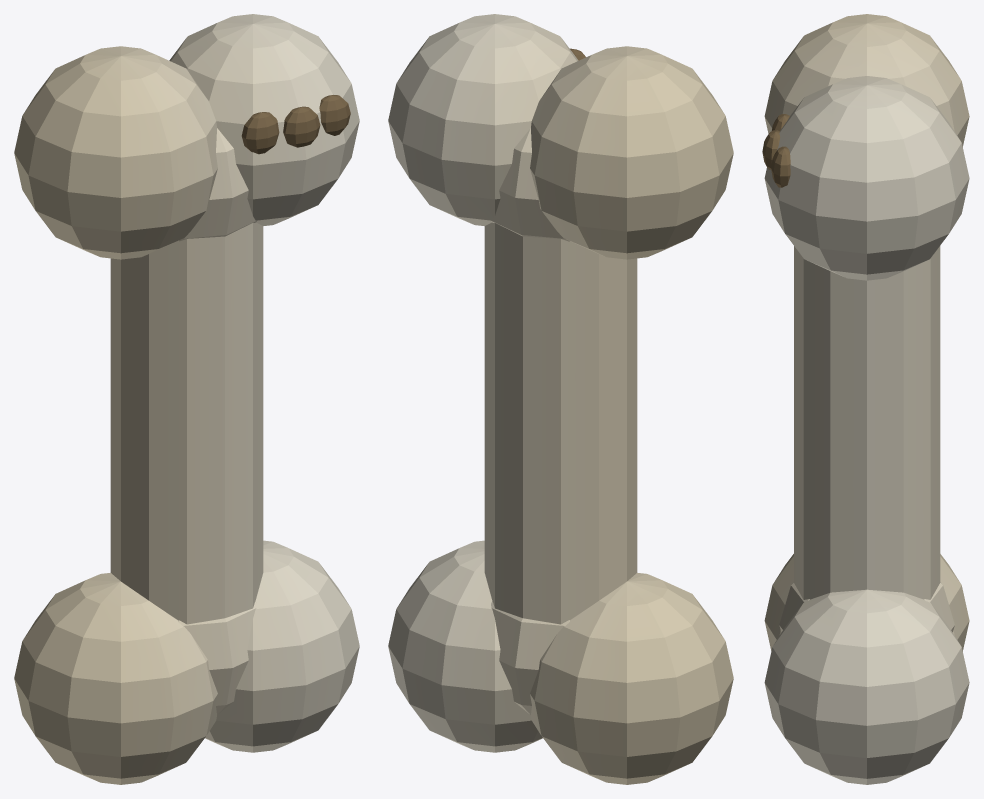
File: GiantBone.fbx
The picture shows the model from 3 angles, left to right: view 1: azimuth 30°, elevation 25°; view 2: azimuth 150°, elevation 25°; view 3: azimuth 270°, elevation 25°; orthographic projection. The views are drawn at different scales.
Visible parts, largest first — view 1: GiantBone; view 2: GiantBone; view 3: GiantBone.
Boxes of the visible parts, x1,y1,x2,y2 form: GiantBone: (14, 14, 359, 784); GiantBone: (388, 14, 733, 784); GiantBone: (762, 14, 969, 784).
Size of the model in its own units: 0.48 by 1.04 by 0.283.
